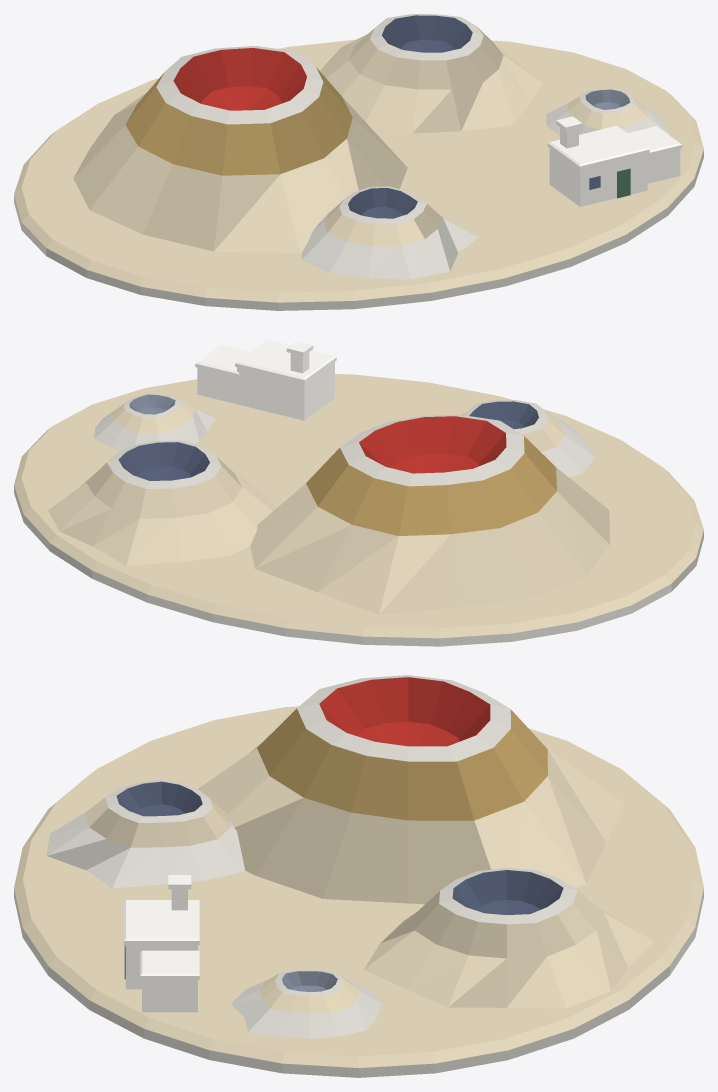
The model's file is lanzarote.glb.
The picture shows the model from 3 angles, top to bottom: view 1: azimuth 30°, elevation 25°; view 2: azimuth 150°, elevation 25°; view 3: azimuth 270°, elevation 25°; orthographic projection. The views are drawn at different scales.
Parts seen in each view (by area): view 1: model; view 2: model; view 3: model.
Boxes of the visible parts, x1=… form: model: x1=14, y1=14, x2=703, y2=310; model: x1=14, y1=339, x2=703, y2=646; model: x1=14, y1=675, x2=703, y2=1077.
Bounding box in the file's own units: 52 × 8.7 × 42.
